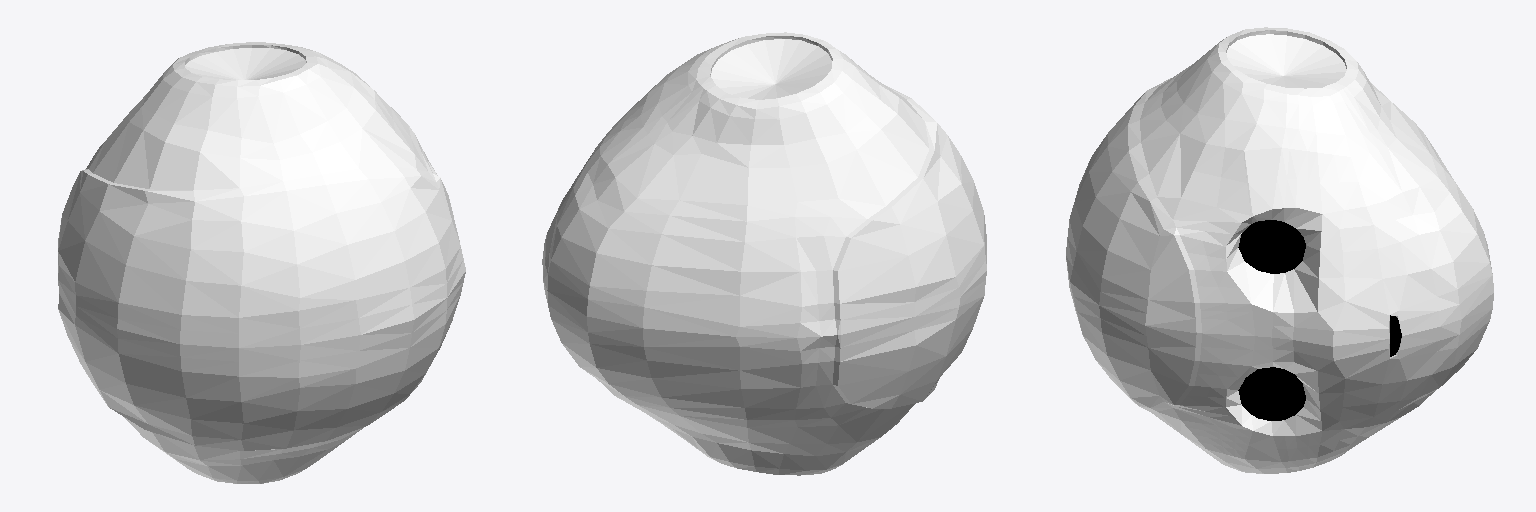
3 renders of one model, left to right at view 1: azimuth 30°, elevation 25°; view 2: azimuth 150°, elevation 25°; view 3: azimuth 270°, elevation 25°, orthographic.
Size of the model in its own units: 2.1 by 2.16 by 2.09.
3 materials, 3 textured.